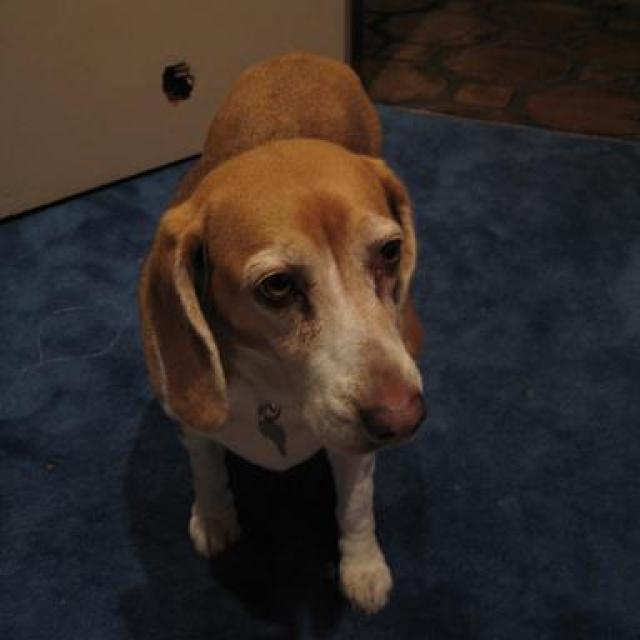sad: (131, 37, 501, 616)
